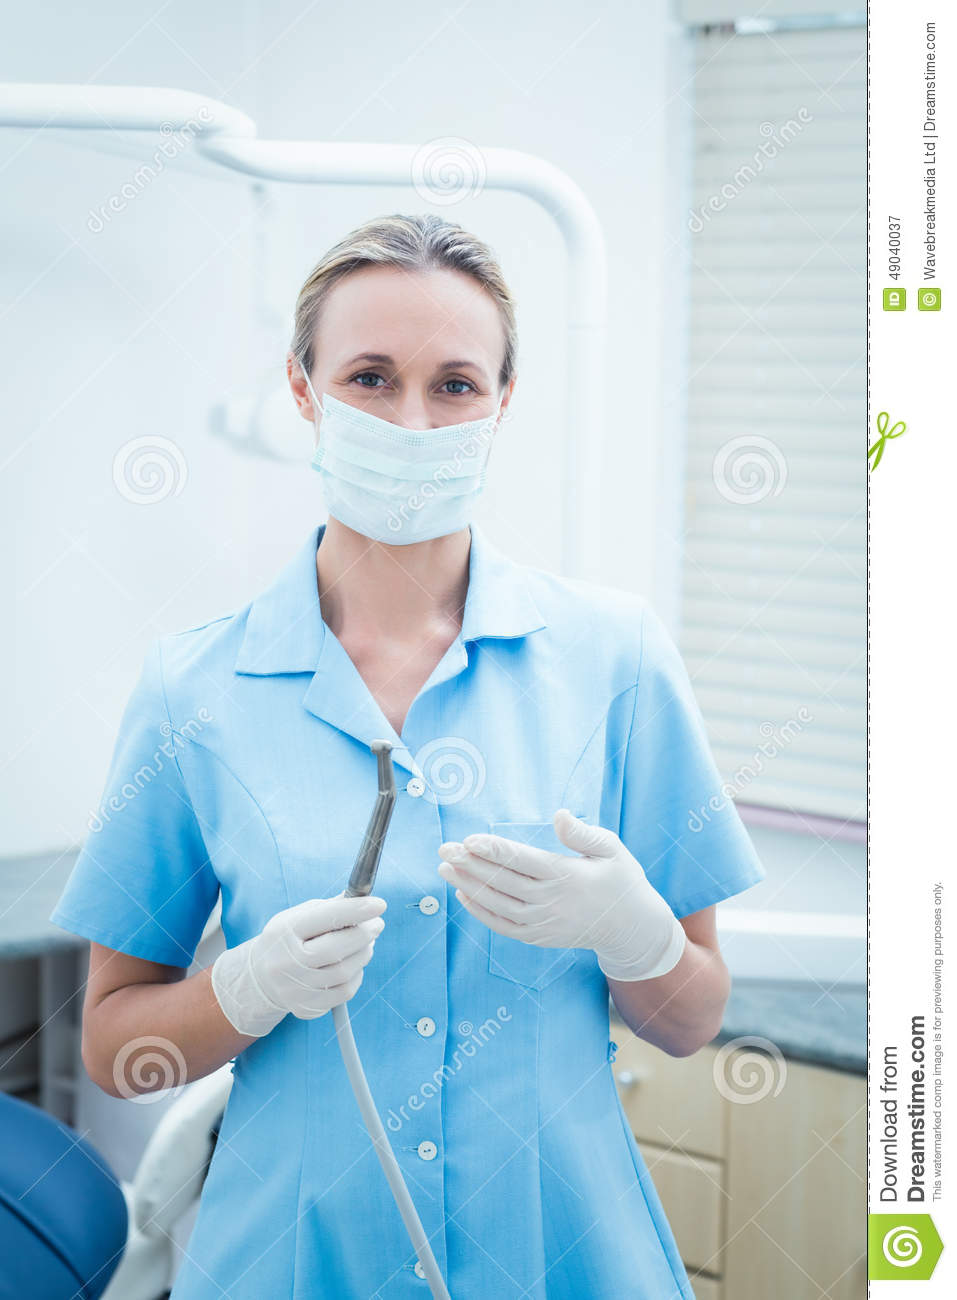mask: (304, 397, 520, 561)
